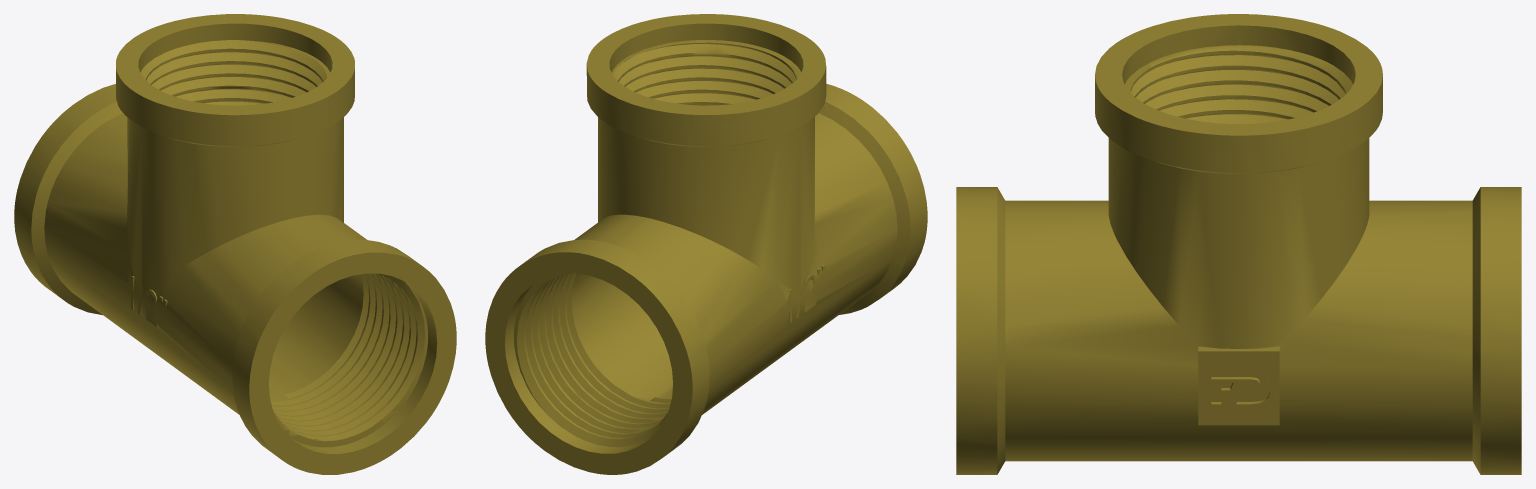
3 renders of one model, left to right at view 1: azimuth 30°, elevation 25°; view 2: azimuth 150°, elevation 25°; view 3: azimuth 270°, elevation 25°, orthographic. The views are drawn at different scales.
Parts seen in each view (by area): view 1: Áîáûøêà-Âûòÿíóòü2; view 2: Áîáûøêà-Âûòÿíóòü2; view 3: Áîáûøêà-Âûòÿíóòü2.
Boxes of the visible parts, x1,y1,x2,y2 form: Áîáûøêà-Âûòÿíóòü2: (14, 14, 456, 474); Áîáûøêà-Âûòÿíóòü2: (485, 14, 927, 474); Áîáûøêà-Âûòÿíóòü2: (956, 14, 1521, 474).
Bounding box in the file's own units: 6.73 × 9.97 × 13.21.
